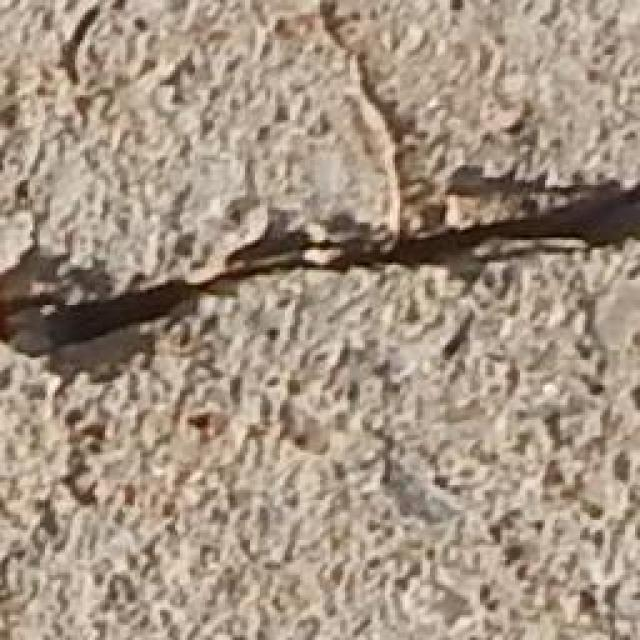concrete-crack: (0, 4, 640, 382)
